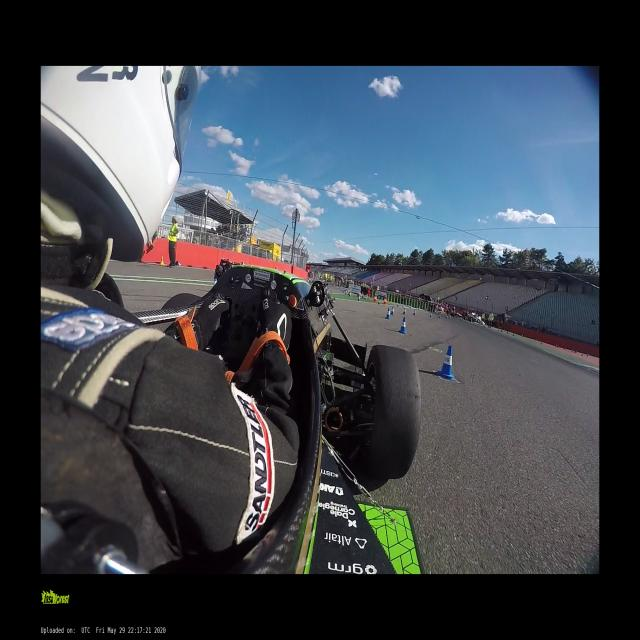blue_cone: (438, 345, 454, 380), (399, 317, 407, 334), (386, 308, 390, 320), (390, 306, 394, 315), (402, 307, 406, 315), (413, 310, 416, 316), (357, 295, 360, 301), (348, 292, 351, 297), (438, 314, 441, 318), (378, 299, 380, 305), (430, 313, 432, 317), (446, 314, 448, 318), (397, 303, 399, 307), (345, 290, 347, 294), (418, 307, 420, 310), (341, 288, 342, 292), (410, 306, 411, 310), (337, 286, 338, 290), (402, 304, 403, 307)
orange_cone: (373, 294, 377, 303), (383, 297, 386, 305)
yellow_cone: (160, 256, 164, 265)
